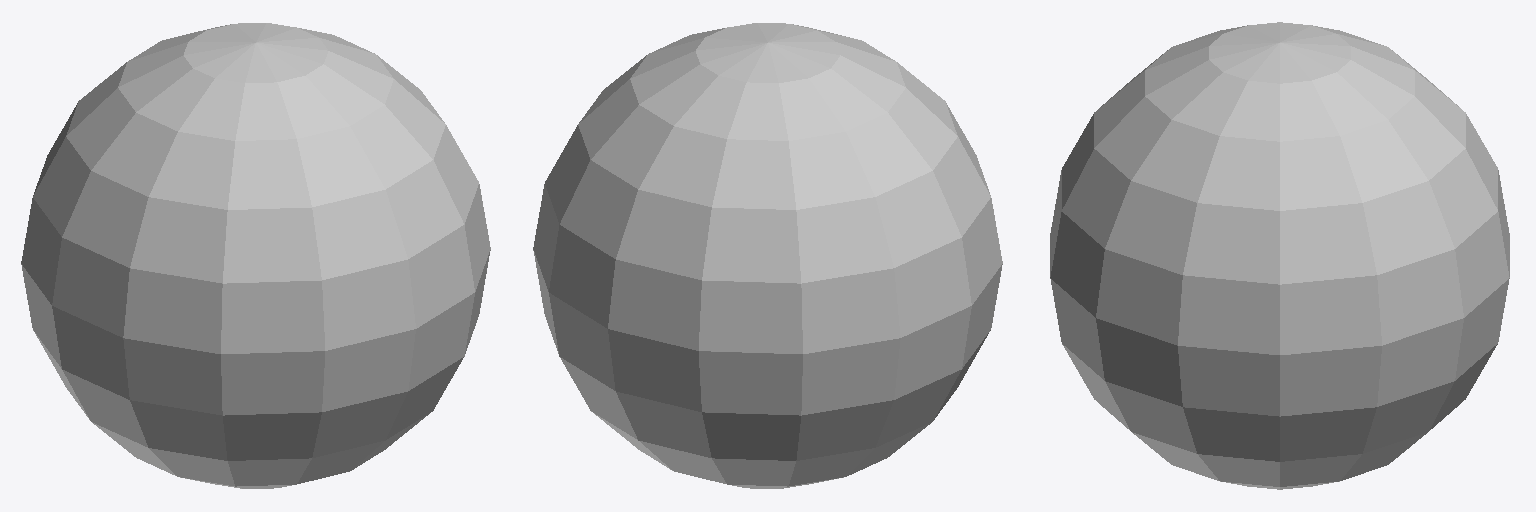
Rendered from GreenBall.obj.
The picture shows the model from 3 angles: view 1: azimuth 30°, elevation 25°; view 2: azimuth 150°, elevation 25°; view 3: azimuth 270°, elevation 25°; orthographic projection.
Parts seen in each view (by area): view 1: vsn_mesh_0_; view 2: vsn_mesh_0_; view 3: vsn_mesh_0_.
Part boxes in pixels (x1,y1,x2,y2): vsn_mesh_0_: (21,23,490,488); vsn_mesh_0_: (533,23,1002,488); vsn_mesh_0_: (1050,22,1509,489).
Bounding box in the file's own units: 0.837 × 0.837 × 0.816.